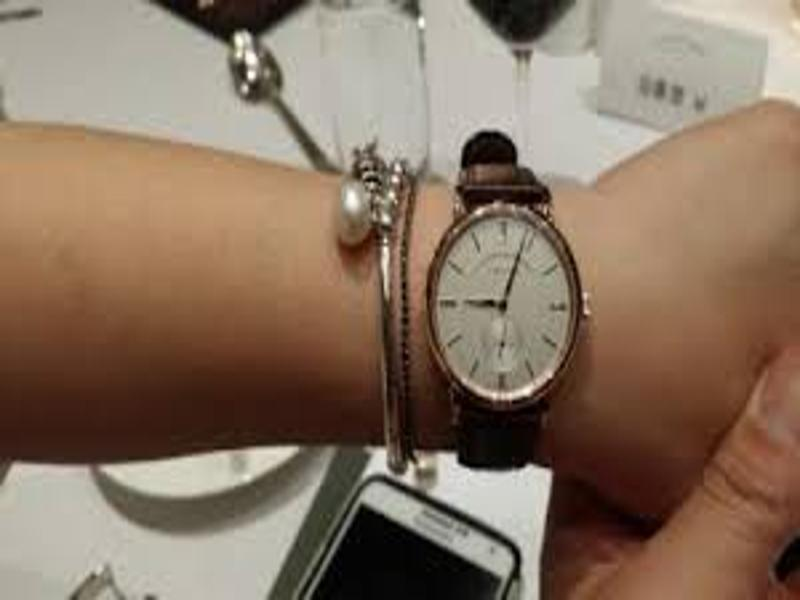watch: (424, 126, 591, 472)
